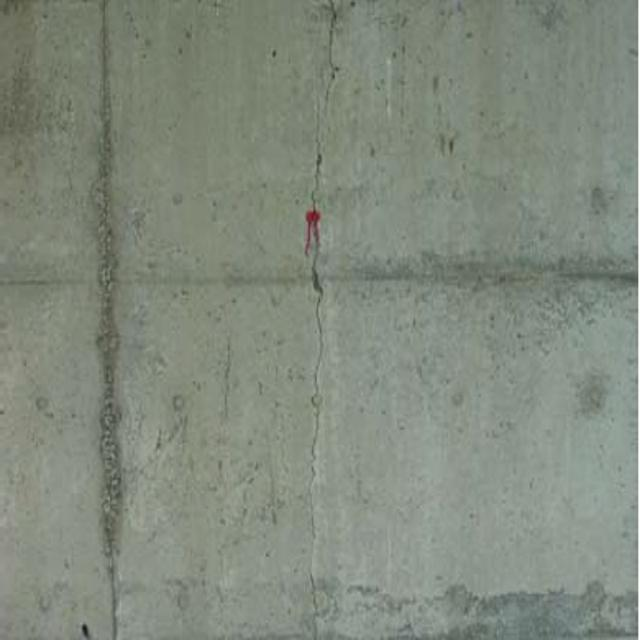crack: (290, 11, 350, 640)
